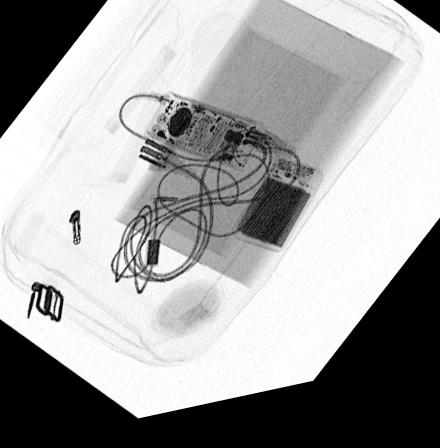Powerbank: (231, 168, 324, 265)
